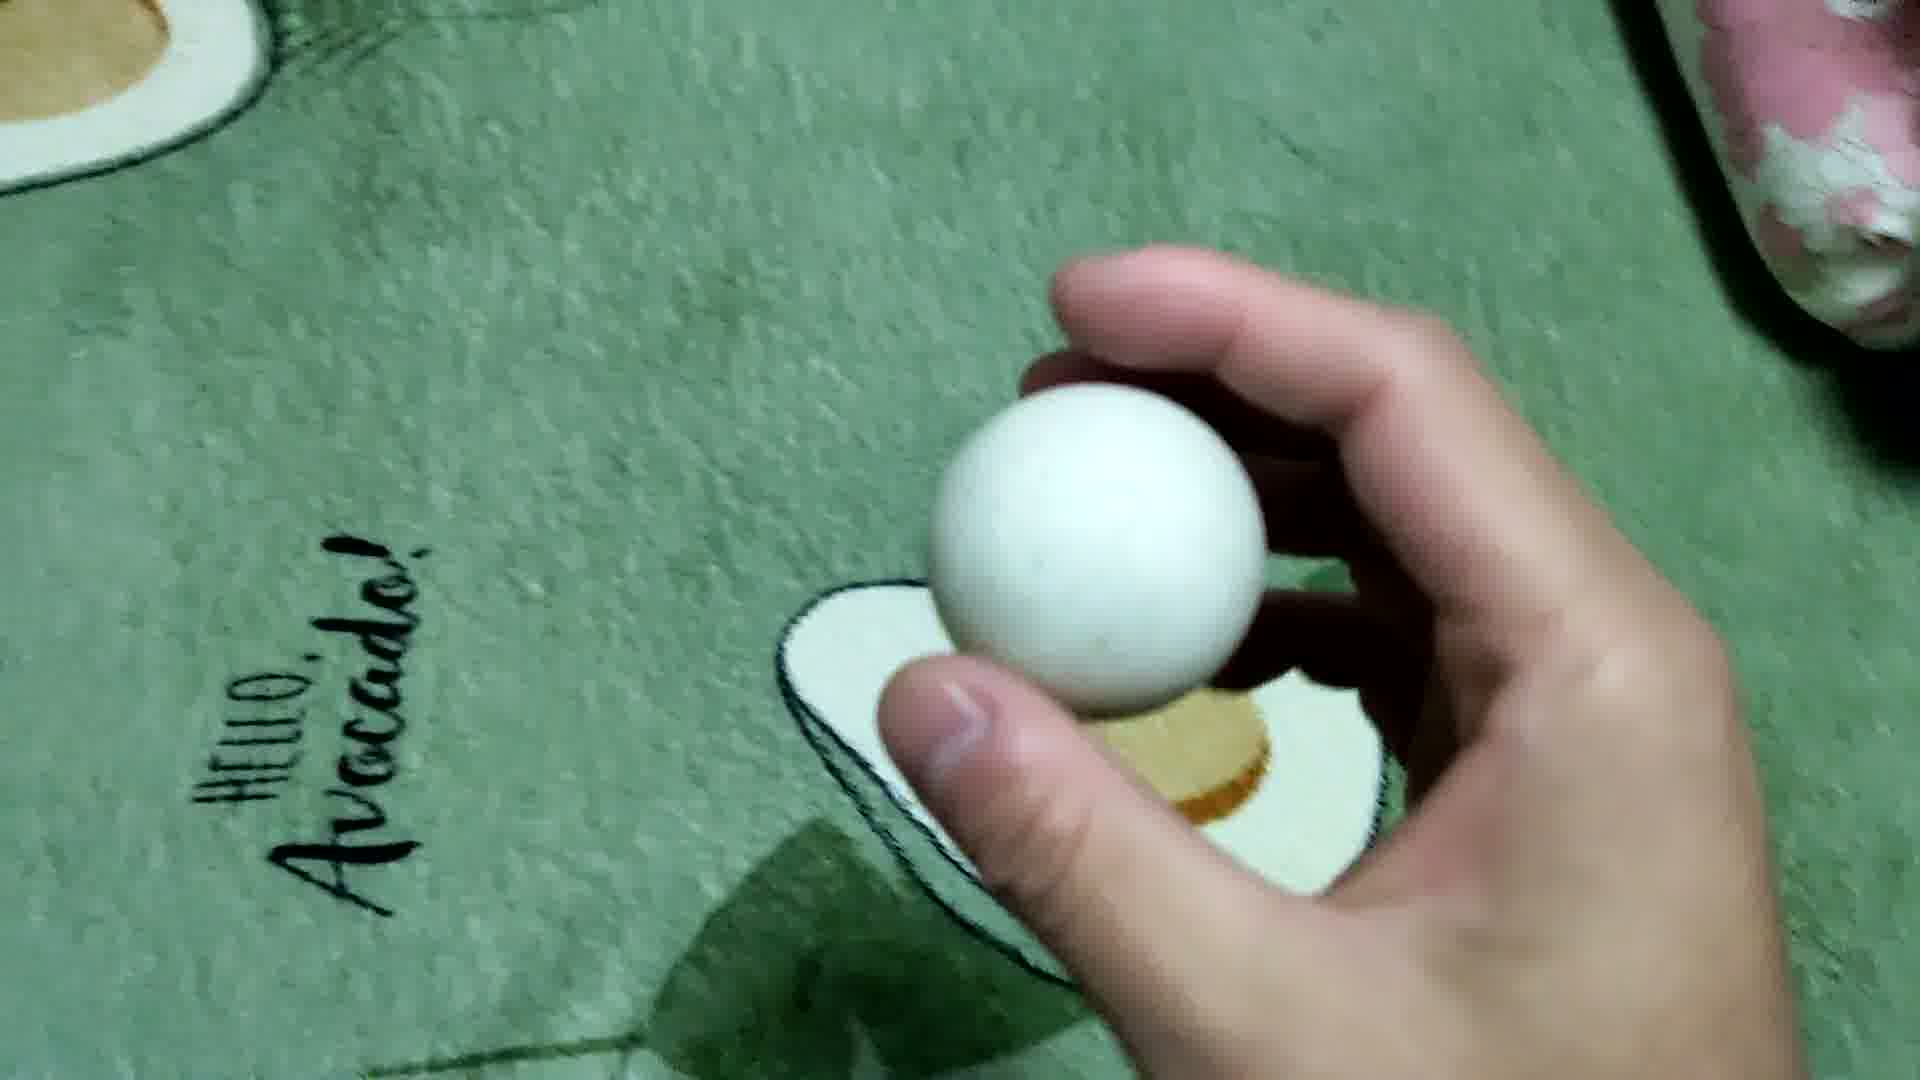Ball: (934, 367, 1267, 713)
